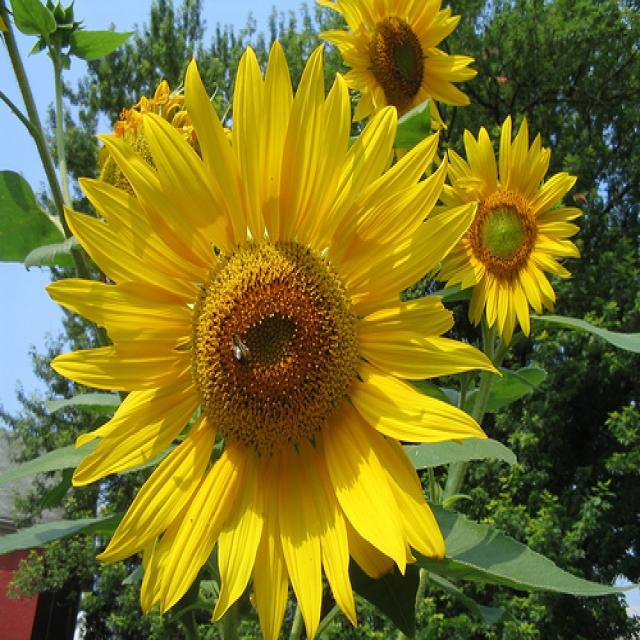sunflower: (45, 43, 499, 640), (445, 116, 582, 338), (92, 77, 239, 231), (322, 0, 477, 121)
